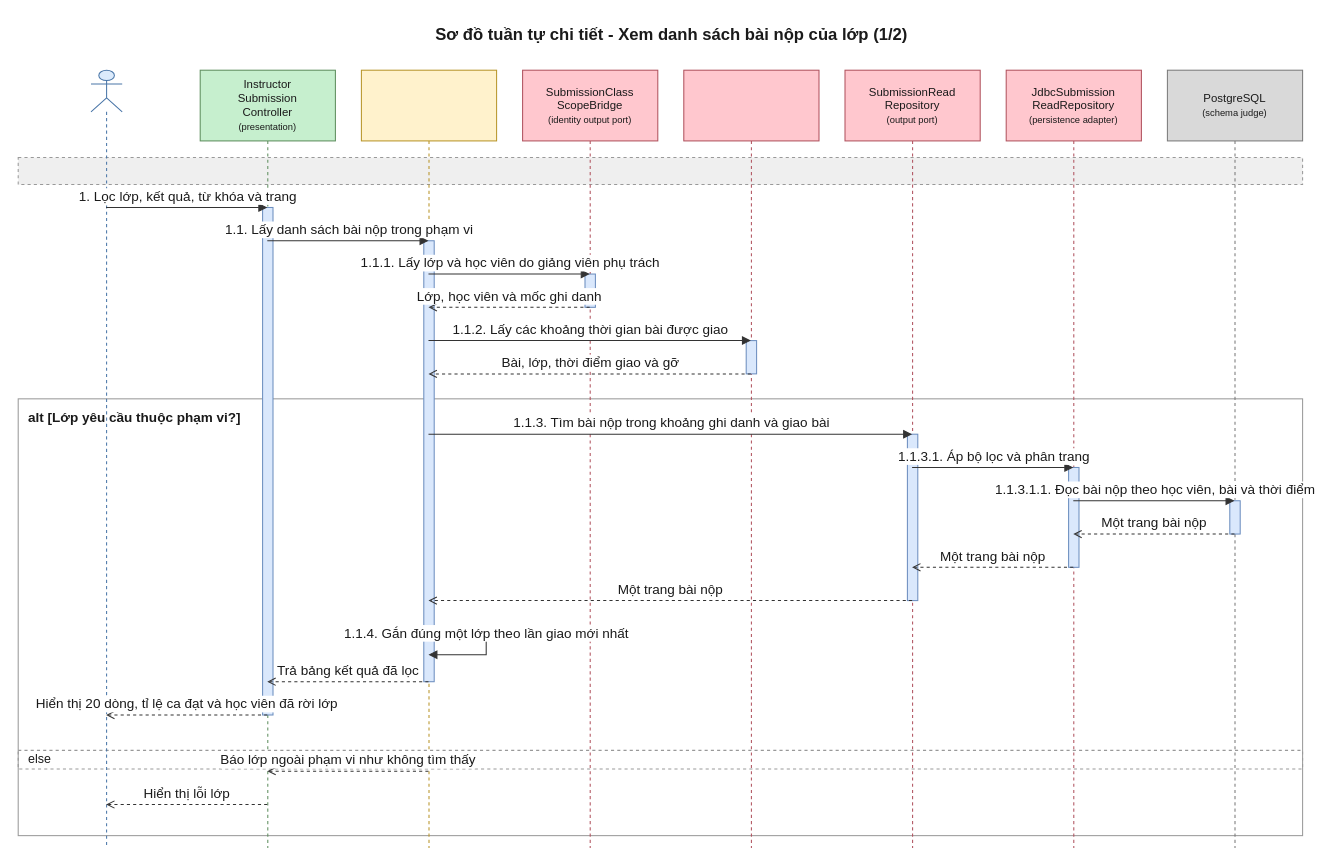
This 1332x866 diagram has some shape labels left out. Here are the shapes that lost their labels. From the top down, the box of each, then its label:
(17, 157, 1303, 185): Giai đoạn 1 - Lấy phạm vi lớp và bài được giao
(90, 69, 122, 848): Giảng viên
(360, 69, 497, 848): ListInstructor Submissions (application query)
(683, 69, 819, 848): ClassAssignment ReadBridge (problem output port)
